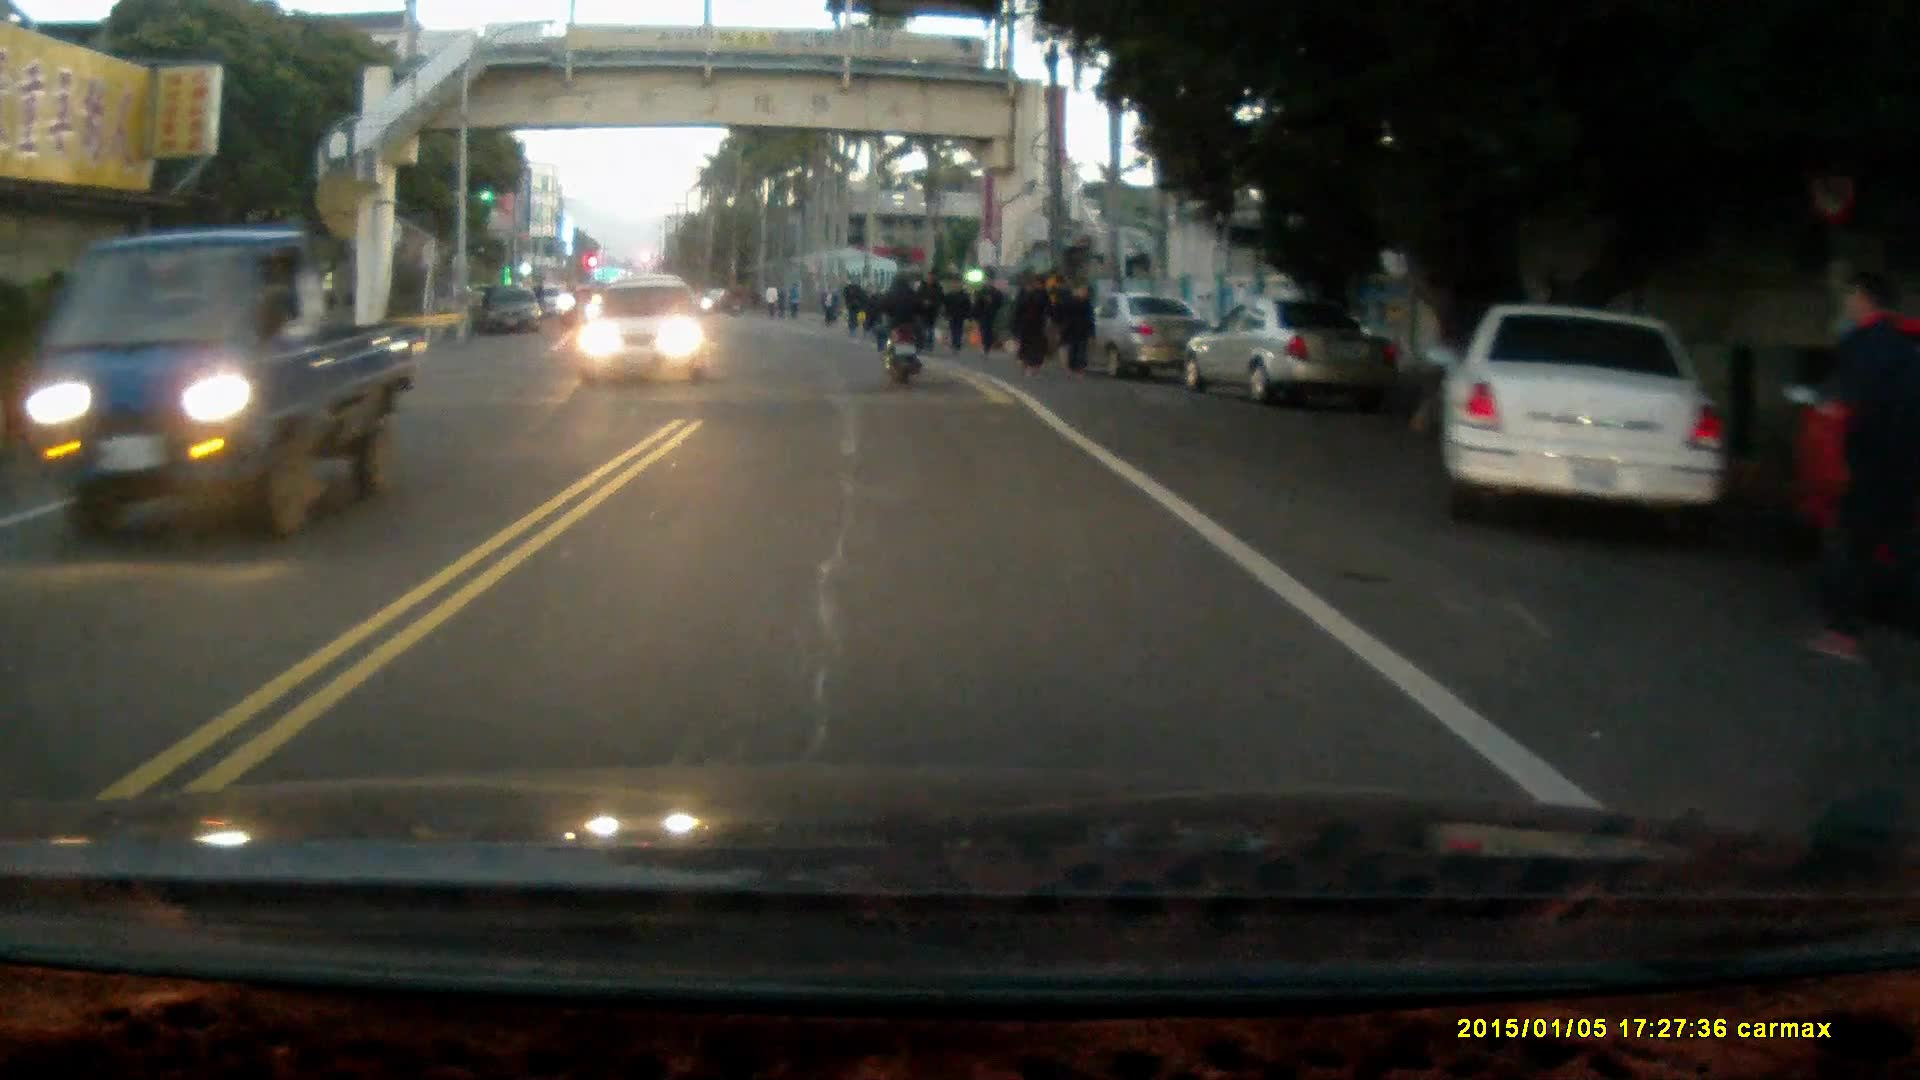pedestrian: (1806, 268, 1918, 685), (1009, 273, 1042, 376), (1029, 271, 1061, 370), (971, 267, 1002, 360), (1064, 284, 1096, 374), (942, 276, 974, 357)
rider: (870, 272, 925, 391)
vehicle: (35, 228, 416, 545), (1432, 303, 1759, 548), (1188, 297, 1397, 411), (578, 279, 712, 387), (1087, 293, 1216, 386)
